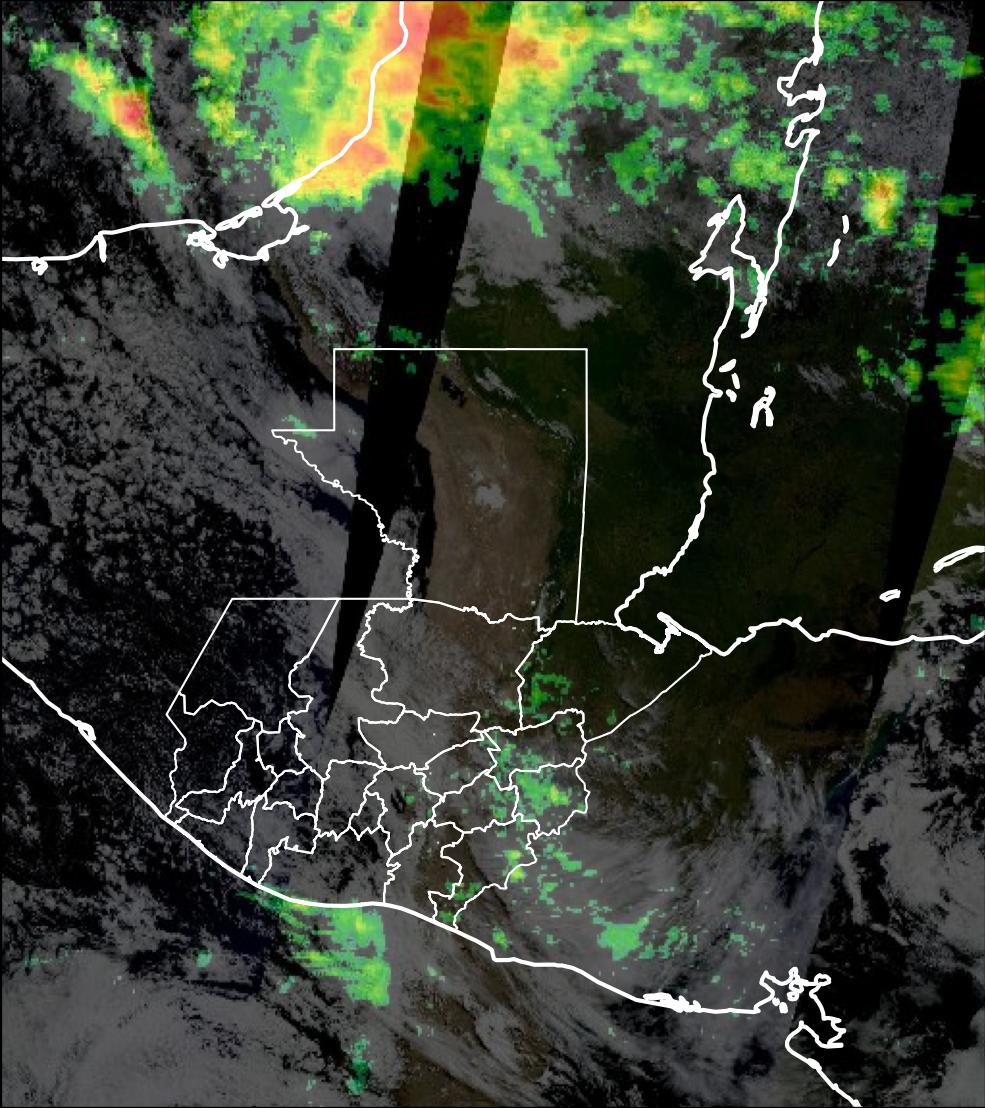precipitacion: (362, 1, 474, 117), (111, 87, 155, 143)
